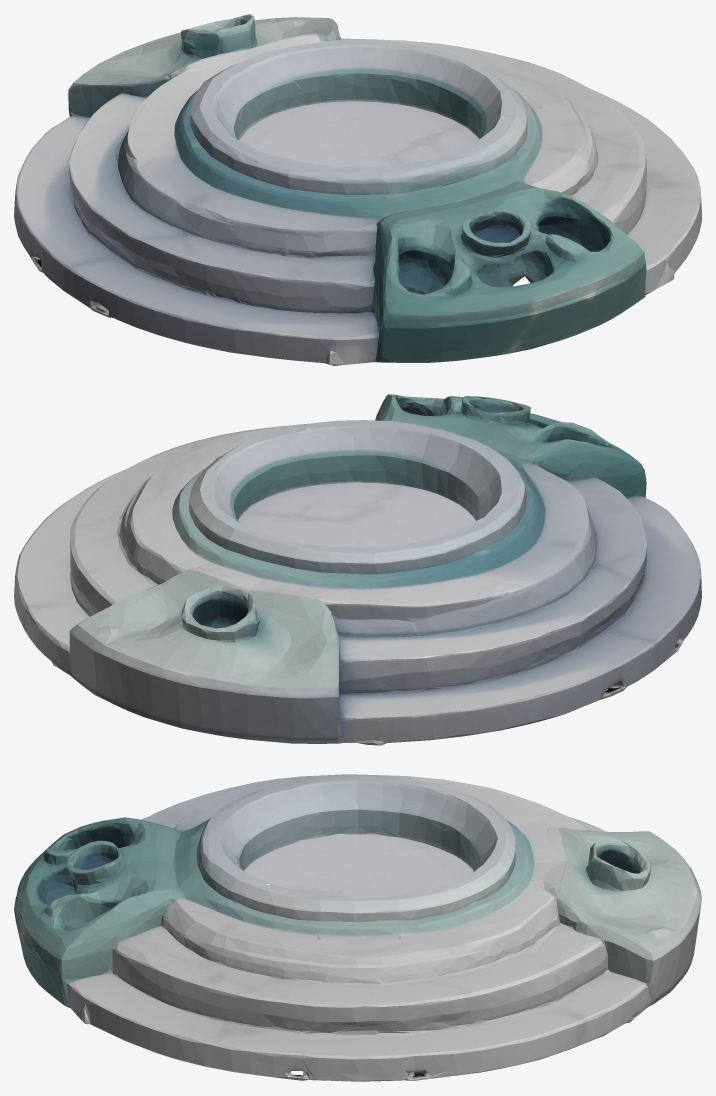
Rendered from pedestal.glb.
The picture shows the model from 3 angles, top to bottom: view 1: azimuth 30°, elevation 25°; view 2: azimuth 150°, elevation 25°; view 3: azimuth 270°, elevation 25°; orthographic projection. The views are drawn at different scales.
Parts seen in each view (by area): view 1: world; view 2: world; view 3: world.
Boxes of the visible parts, x1=… form: world: x1=14, y1=14, x2=701, y2=365; world: x1=14, y1=394, x2=701, y2=745; world: x1=14, y1=774, x2=701, y2=1081.
Bounding box in the file's own units: 0.7473 × 0.176 × 0.7924.
1 material, 1 textured.
